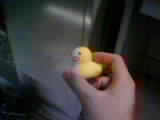duck: (65, 39, 114, 91)
